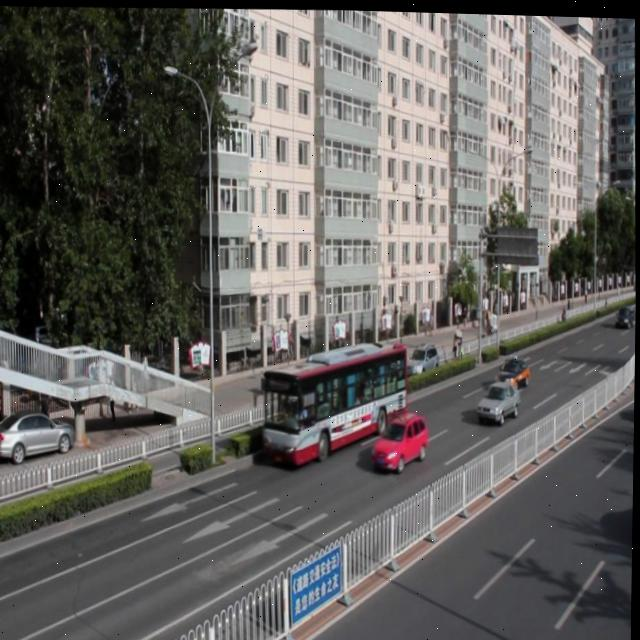car: (371, 408, 428, 470), (475, 373, 518, 421), (491, 351, 529, 386), (405, 338, 439, 375)
van: (263, 337, 409, 465)
